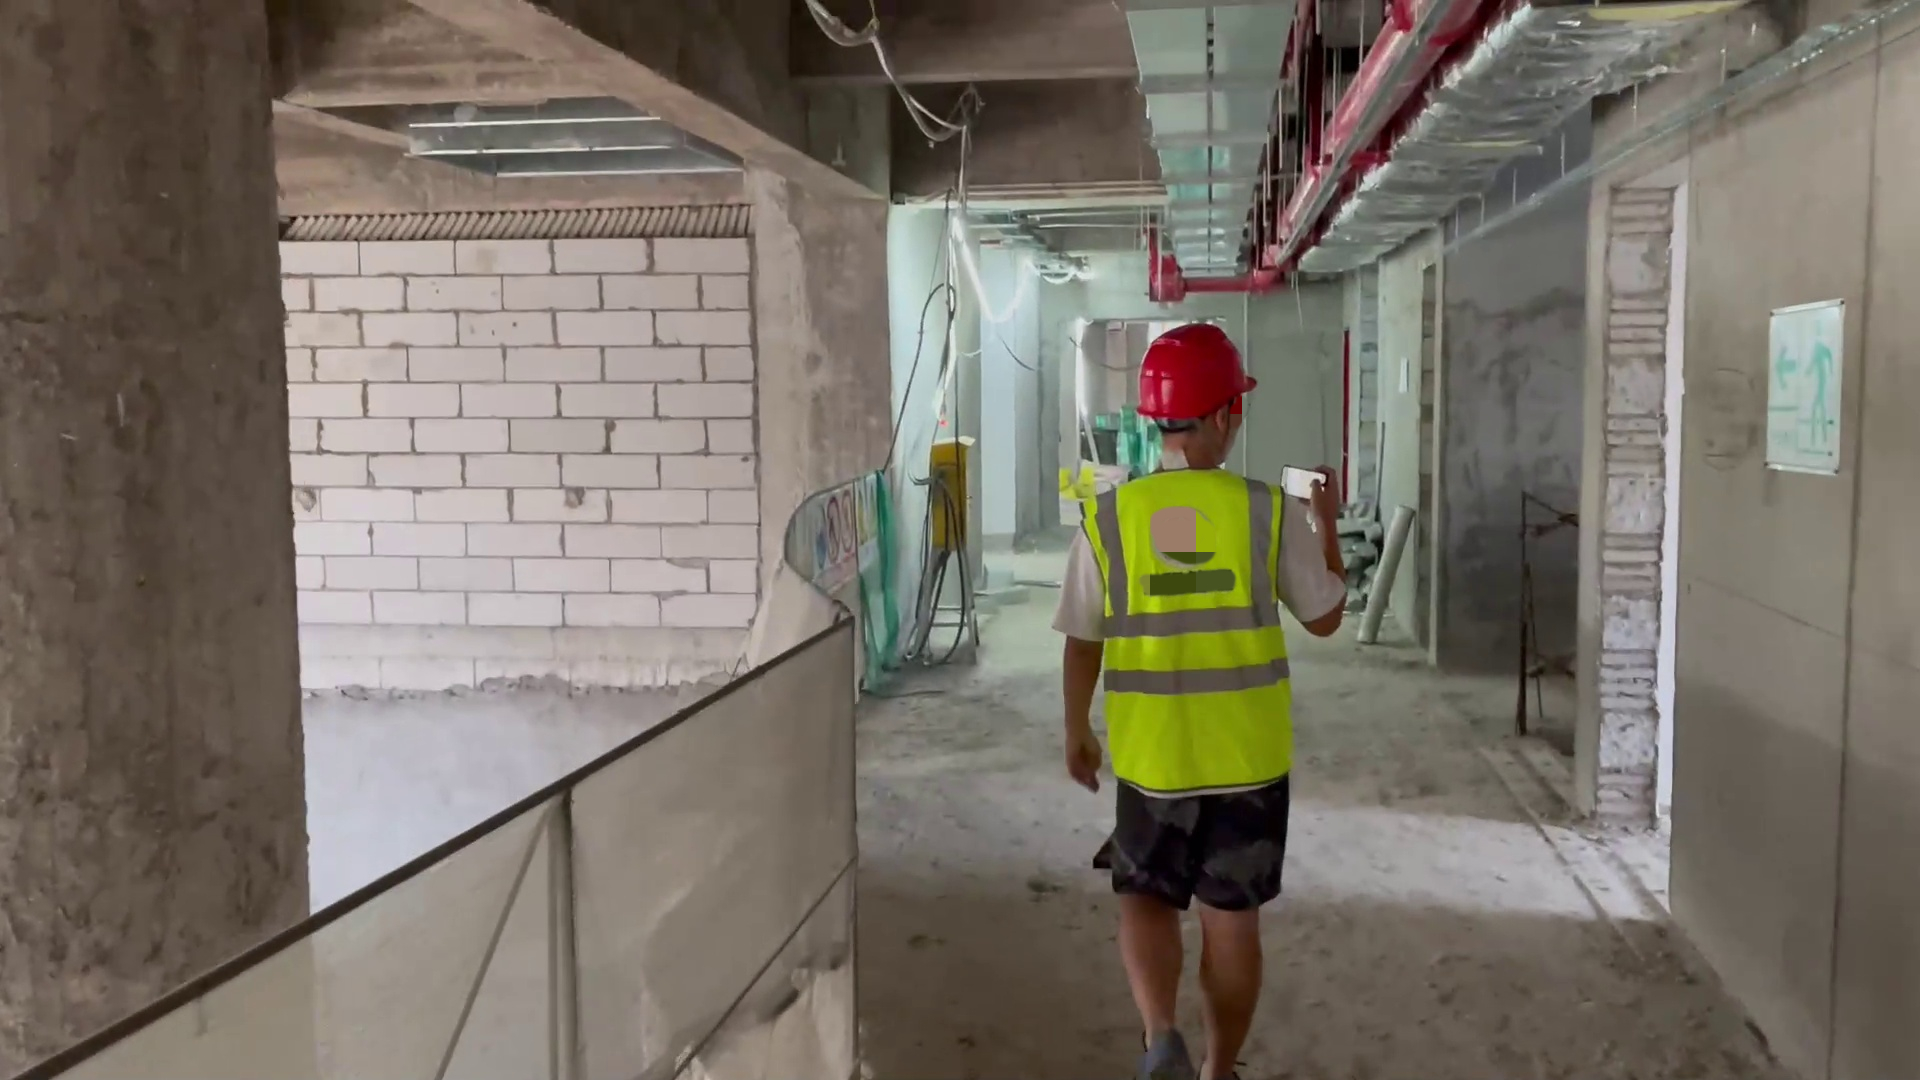ebox: (924, 425, 985, 680)
helmet: (1133, 325, 1260, 427)
person: (1059, 315, 1352, 1068)
slogan: (1759, 305, 1845, 487), (781, 468, 890, 587)
vest: (1089, 475, 1315, 795)
